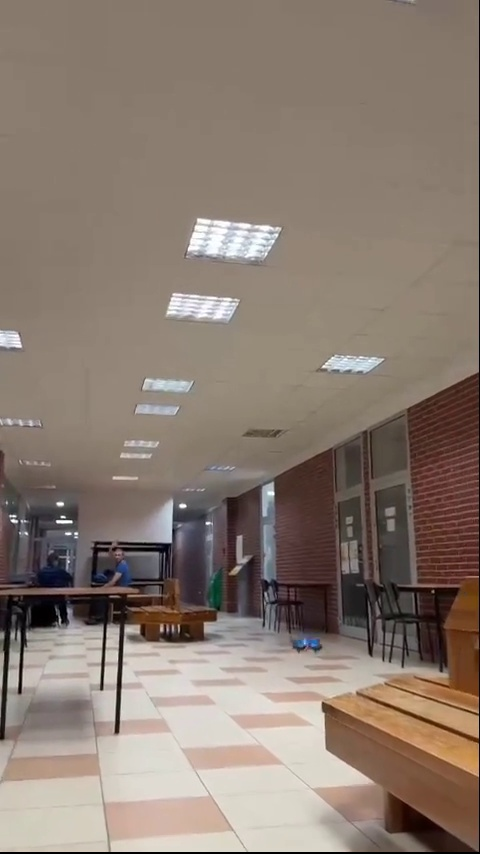drone: (291, 635, 323, 655)
no vest: (25, 544, 71, 591), (93, 540, 132, 588)
